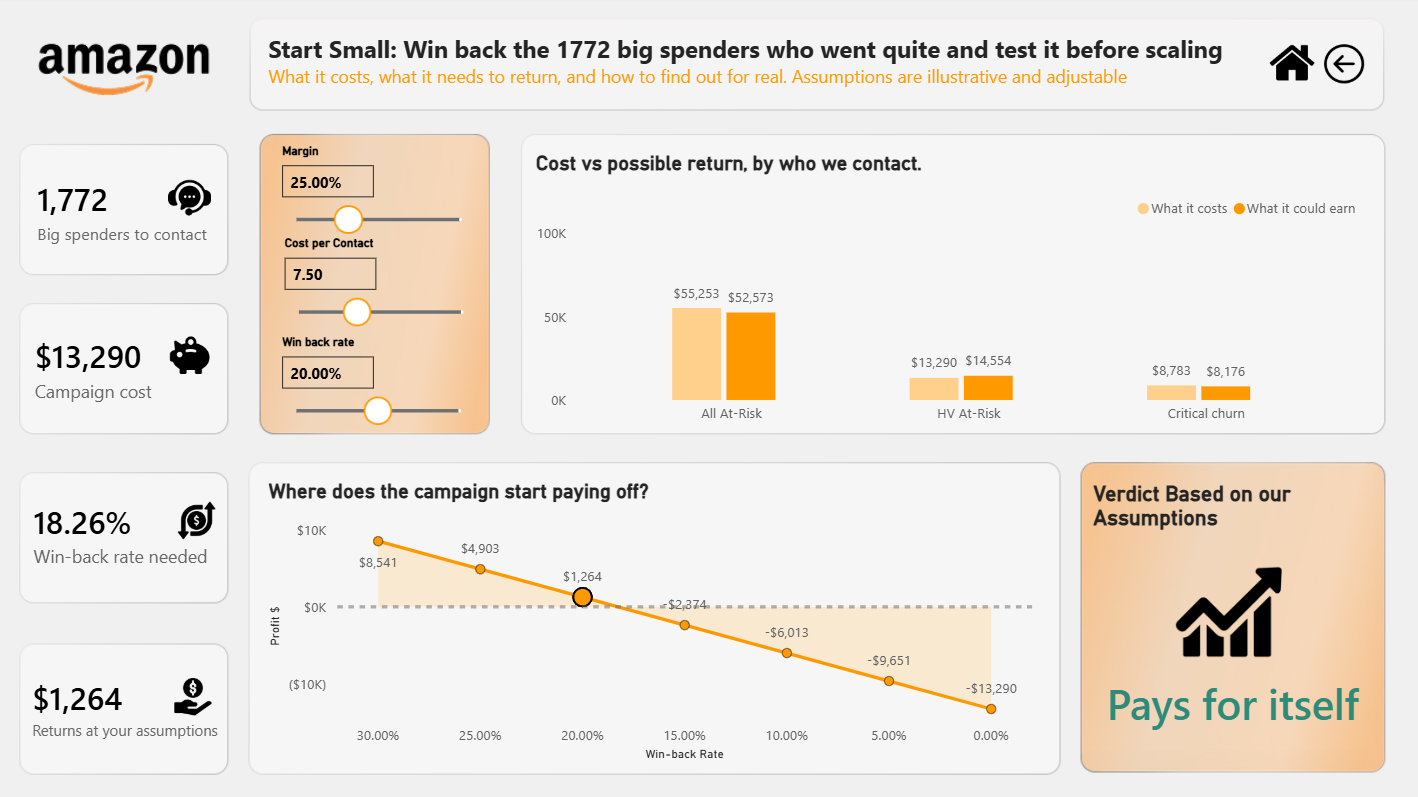

Layout of this report page (visuals, bound fields, positions):
{"tool":"powerbi","page":{"name":"What to do first","canvas":[1920,1080],"ordinal":2},"visuals":[{"type":"textbox","box":[36,30,1472,118],"z":0},{"type":"clusteredColumnChart","title":"Cost vs possible return, by who we contact.","fields":{"Category":["campaign_targets.target"],"Y":["rfm_powerbi.Campaign Cost","rfm_powerbi.Expected Profit"]},"box":[830,220,1050,383.3],"z":1000},{"type":"cardVisual","fields":{"Data":["rfm_powerbi.HV At-Risk Customers"]},"box":[94.5,236.7,283.3,166.7],"z":1000,"group":"g1"},{"type":"cardVisual","fields":{"Data":["rfm_powerbi.HV Cost"]},"box":[86.7,443.6,282,160],"z":2000,"group":"g1"},{"type":"cardVisual","fields":{"Data":["rfm_powerbi.Verdict"]},"box":[1333.3,620,546.7,386.7],"z":2000},{"type":"lineChart","title":"Where does the campaign start paying off?","fields":{"Y":["rfm_powerbi.HV Net at Rate","rfm_powerbi.Selected Rate Marker"],"Category":["Win-back Curve.Rate"]},"box":[416.7,620,890,386.7],"z":3000},{"type":"cardVisual","fields":{"Data":["rfm_powerbi.HV Break-even"]},"box":[93.4,645.1,282,170],"z":3000,"group":"g1"},{"type":"shape","box":[416,220,376.7,383.3],"z":3500},{"type":"group","id":"g1","title":"Group 2","box":[86.7,236.7,295,770],"z":4000},{"type":"cardVisual","fields":{"Data":["rfm_powerbi.HV Net"]},"box":[86.7,856.7,295,150],"z":4000,"group":"g1"},{"type":"slicer","fields":{"Values":["Cost per Contact.Cost per Contact"]},"box":[475,360,258.3,123.3],"z":6000},{"type":"slicer","fields":{"Values":["Margin.Margin"]},"box":[473.8,255,260,105],"z":7000},{"type":"slicer","fields":{"Values":["Reactivation Rate.Reactivation Rate"]},"box":[473.3,480,248.3,121.7],"z":8000}]}

Visuals, with their boxes in screenshot pixels (x1, y1, x2, y2), scaled from the page's 1920x1080 canvas onto the 1418x797 screenshot:
textbox: {"x1": 27, "y1": 22, "x2": 1114, "y2": 109}
"Cost vs possible return, by who we contact." clusteredColumnChart: {"x1": 613, "y1": 162, "x2": 1388, "y2": 445}
cardVisual - rfm_powerbi.HV At-Risk Customers: {"x1": 70, "y1": 175, "x2": 279, "y2": 298}
cardVisual - rfm_powerbi.HV Cost: {"x1": 64, "y1": 327, "x2": 272, "y2": 445}
cardVisual - rfm_powerbi.Verdict: {"x1": 985, "y1": 458, "x2": 1388, "y2": 743}
"Where does the campaign start paying off?" lineChart: {"x1": 308, "y1": 458, "x2": 965, "y2": 743}
cardVisual - rfm_powerbi.HV Break-even: {"x1": 69, "y1": 476, "x2": 277, "y2": 602}
shape: {"x1": 307, "y1": 162, "x2": 585, "y2": 445}
"Group 2" group: {"x1": 64, "y1": 175, "x2": 282, "y2": 743}
cardVisual - rfm_powerbi.HV Net: {"x1": 64, "y1": 632, "x2": 282, "y2": 743}
slicer - Cost per Contact.Cost per Contact: {"x1": 351, "y1": 266, "x2": 542, "y2": 357}
slicer - Margin.Margin: {"x1": 350, "y1": 188, "x2": 542, "y2": 266}
slicer - Reactivation Rate.Reactivation Rate: {"x1": 350, "y1": 354, "x2": 533, "y2": 444}
